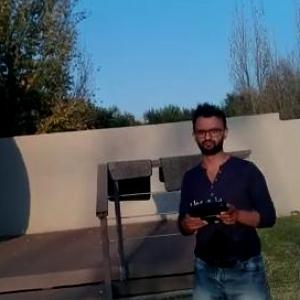follow: (173, 97, 285, 299)
